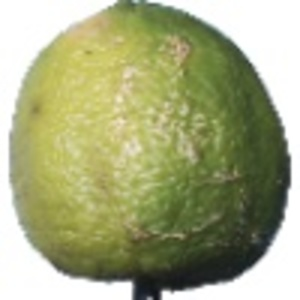limão: (10, 1, 290, 300)
